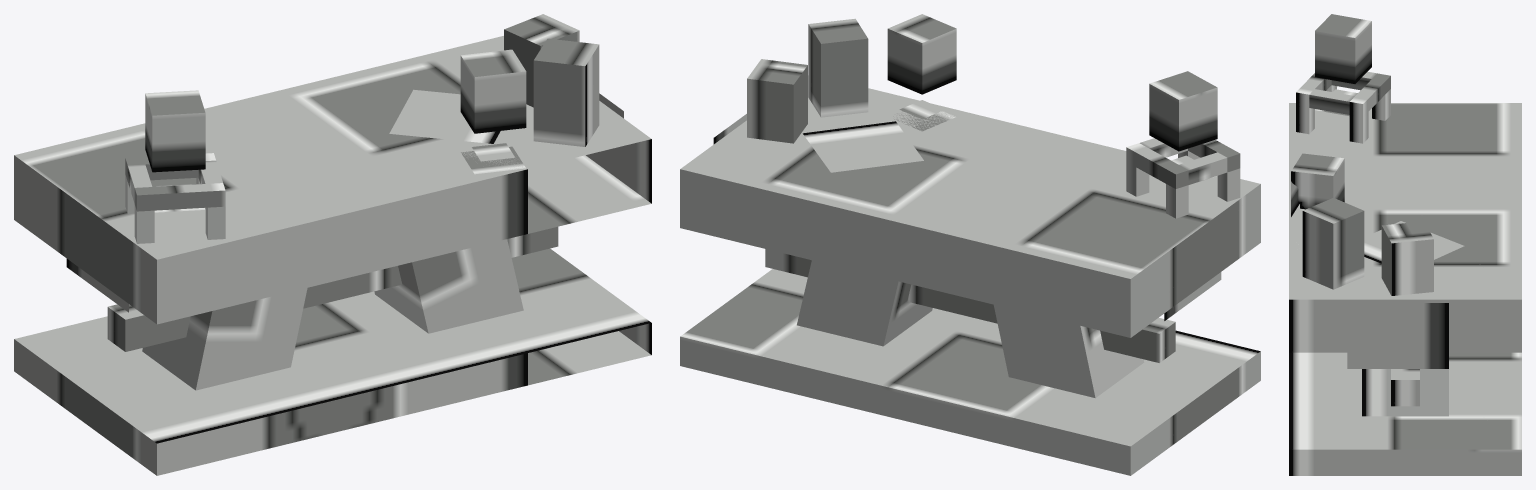
File: alchemy_table.obj
3 views of the same model, side by side, from view 1: azimuth 30°, elevation 25°; view 2: azimuth 150°, elevation 25°; view 3: azimuth 270°, elevation 25° (orthographic). The views are drawn at different scales.
Parts seen in each view (by area): view 1: Top, Base, Pillar2, Pillar1, Jar2, Jar3, BeamCasing, CrucibleJar, Recipe, Jar1, CrucibleSide1, CrucibleSide2 (+2 smaller); view 2: Top, Base, Pillar2, Pillar1, Jar2, Jar3, Jar1, CrucibleJar, BeamCasing, Recipe, CrucibleSide2, CrucibleSide4 (+4 smaller); view 3: Top, Base, Carpet1, Jar2, Jar1, CrucibleJar, Pillar1, Jar3, BeamCasing, CrucibleSide2, Recipe, CrucibleSide3 (+5 smaller).
Boxes of the visible parts, x1,y1,x2,y2 form: Top: (14, 36, 651, 324); Base: (14, 248, 651, 475); Pillar2: (142, 288, 307, 390); Pillar1: (374, 239, 523, 333); Jar2: (533, 38, 599, 146); Jar3: (460, 49, 526, 174); BeamCasing: (107, 226, 558, 351); CrucibleJar: (145, 90, 205, 212); Recipe: (389, 89, 500, 143); Jar1: (504, 14, 579, 107); CrucibleSide1: (134, 183, 225, 211); CrucibleSide2: (125, 153, 215, 180); Top: (680, 75, 1260, 337); Base: (680, 269, 1260, 475); Pillar2: (993, 304, 1144, 398); Pillar1: (797, 260, 932, 346); Jar2: (808, 18, 868, 117); Jar3: (887, 14, 956, 131); Jar1: (747, 59, 807, 143); CrucibleJar: (1149, 71, 1217, 184); BeamCasing: (765, 249, 1175, 362); Recipe: (803, 121, 923, 172); CrucibleSide2: (1126, 143, 1188, 188); CrucibleSide4: (1179, 152, 1227, 184); Top: (1289, 103, 1521, 352); Base: (1289, 352, 1521, 475); Carpet1: (1347, 303, 1448, 368); Jar2: (1302, 198, 1364, 289); Jar1: (1381, 221, 1433, 295); CrucibleJar: (1315, 14, 1371, 116); Pillar1: (1362, 369, 1448, 416); Jar3: (1291, 153, 1344, 216); BeamCasing: (1391, 369, 1419, 406); CrucibleSide2: (1349, 73, 1390, 117); Recipe: (1364, 221, 1464, 263); CrucibleSide3: (1309, 89, 1354, 114).
Size of the model in its own units: 2.23 by 1.31 by 1.
